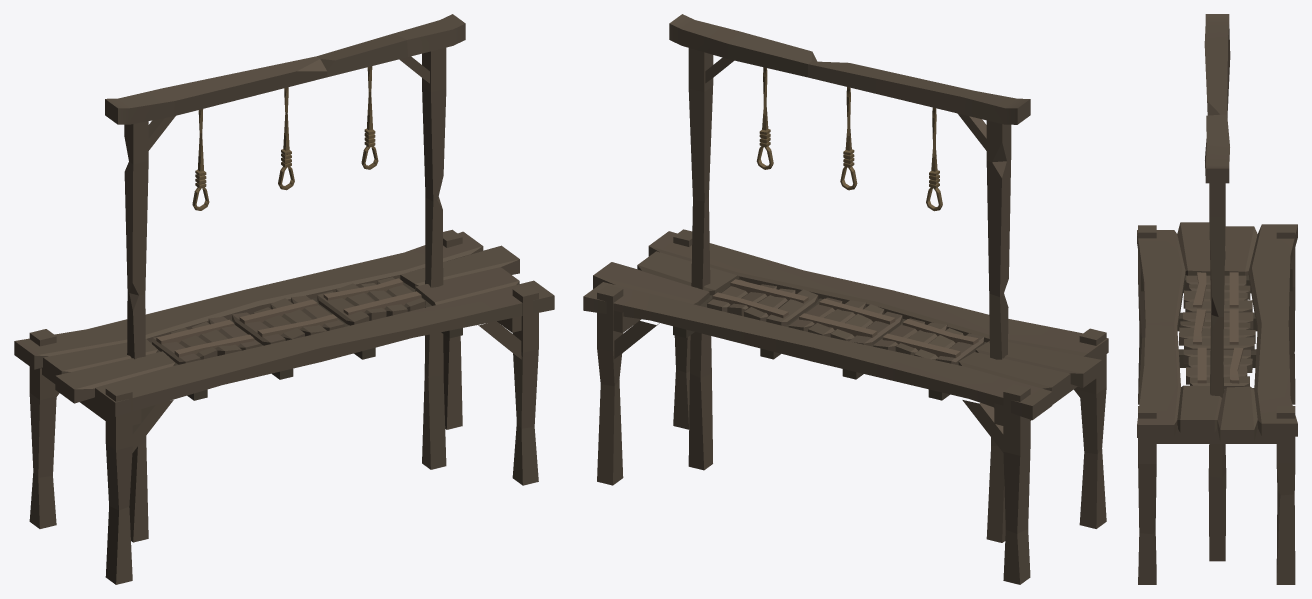
File: SM_Prop_Gallows_01.glb
The picture shows the model from 3 angles, left to right: view 1: azimuth 30°, elevation 25°; view 2: azimuth 150°, elevation 25°; view 3: azimuth 270°, elevation 25°; orthographic projection. The views are drawn at different scales.
Visible parts, largest first — view 1: SM_Prop_Gallows_Trapdoor_03; view 2: SM_Prop_Gallows_Trapdoor_03; view 3: SM_Prop_Gallows_Trapdoor_03.
Part boxes in pixels (bbox=[...]): SM_Prop_Gallows_Trapdoor_03: bbox=[14, 14, 554, 584]; SM_Prop_Gallows_Trapdoor_03: bbox=[583, 14, 1108, 584]; SM_Prop_Gallows_Trapdoor_03: bbox=[1137, 14, 1297, 584].
Bounding box in the file's own units: 0.0604 × 0.0543 × 0.0198.
